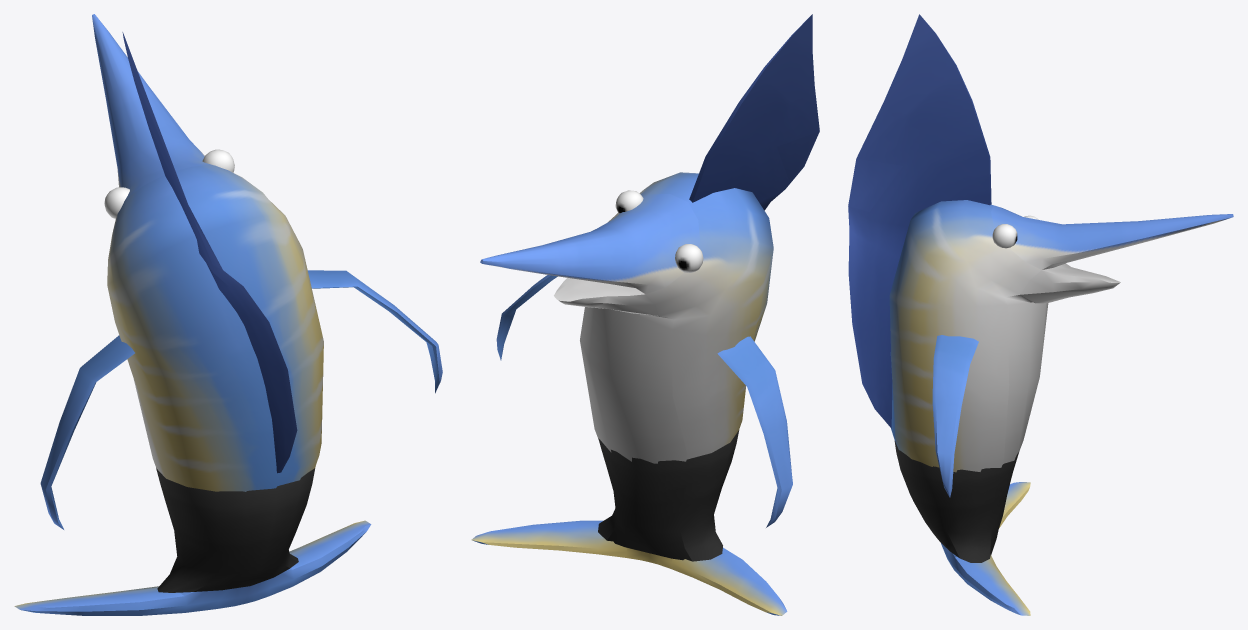
The model's file is kajiki_idle_a_02.fbx.
3 views of the same model, side by side, from view 1: azimuth 30°, elevation 25°; view 2: azimuth 150°, elevation 25°; view 3: azimuth 270°, elevation 25° (orthographic). The views are drawn at different scales.
Visible parts, largest first — view 1: I_a_02; view 2: I_a_02; view 3: I_a_02.
Boxes of the visible parts, <box> form: I_a_02: <box>14,14,442,615</box>; I_a_02: <box>471,14,819,615</box>; I_a_02: <box>848,14,1233,615</box>.
Bounding box in the file's own units: 1.55 × 2.47 × 1.78.
Materials: 1 (1 with a texture image).
